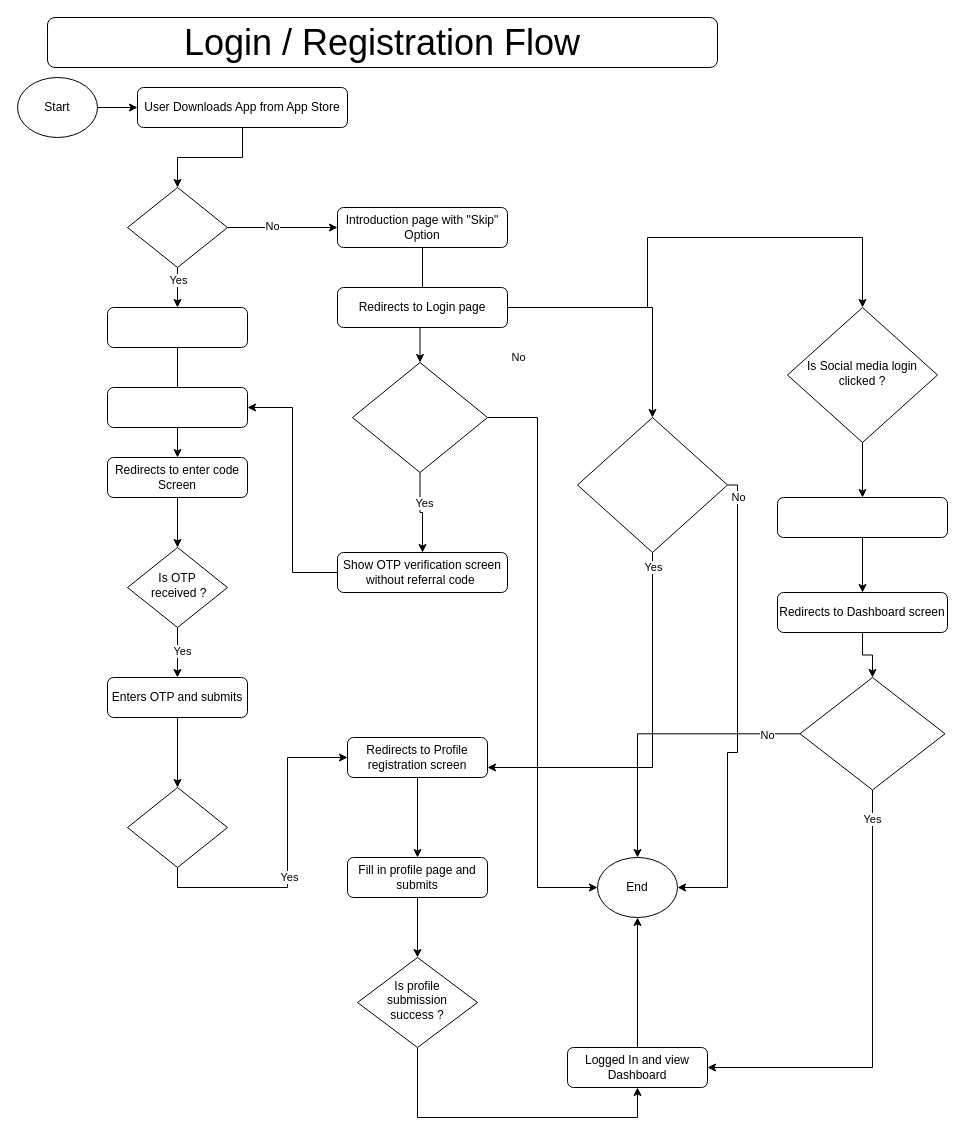
The diagram is 965 pixels wide and 1143 high, and some of its shapes have lost their labels. Each missing label, with the centre of its shape:
Enters Mobile number to get OTP: (177,407)
Is "Signup " clicked - available on bottom of screen ?: (652,484)
Is OTP verification clicked "Verify OTP" ?: (420,417)
Is OTP verification success ?: (177,827)
Is user Referred ?: (177,227)
Logs in his/her social medial account: (862,517)
Show OTP verification screen with referral code: (177,327)
User found based on email /social media ID?: (872,733)
